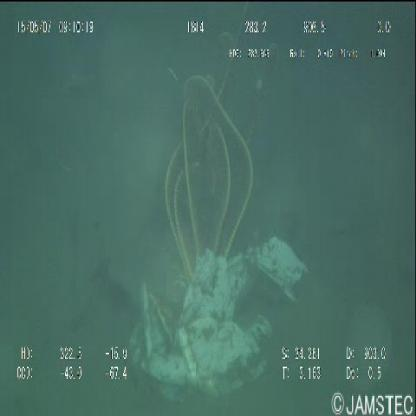Rác: (128, 237, 309, 405)
